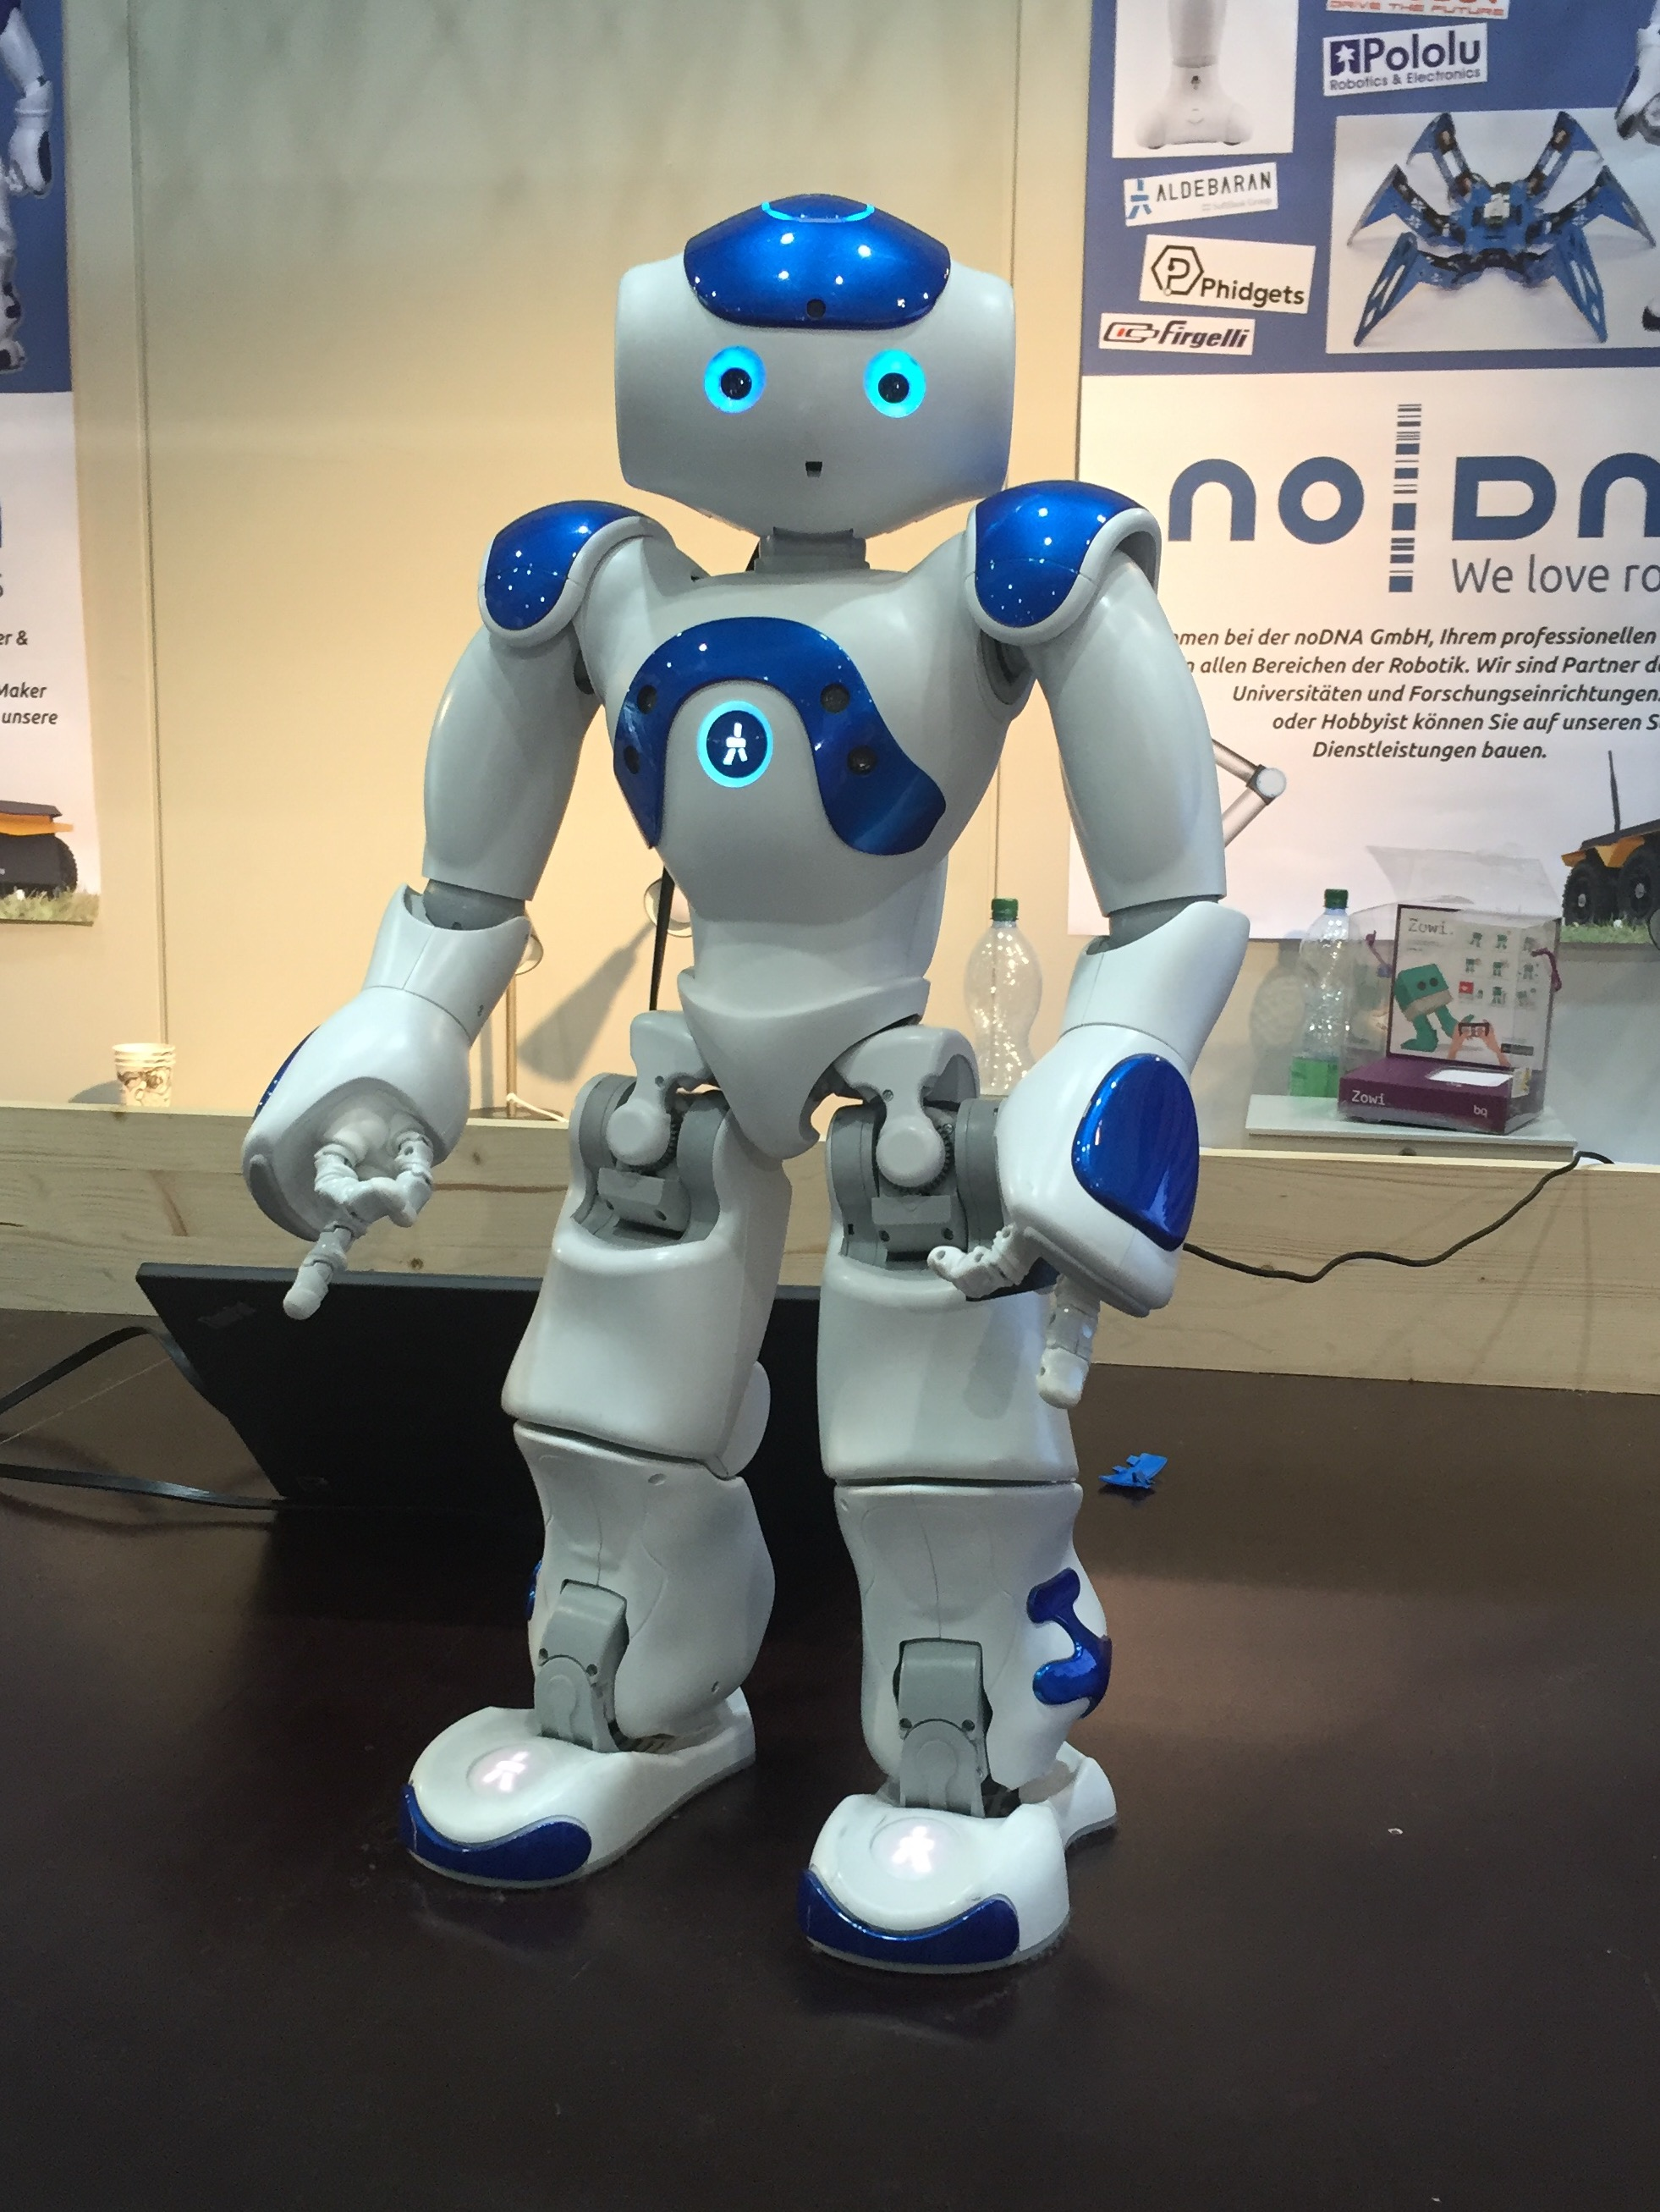person-like: (237, 160, 1274, 2000)
